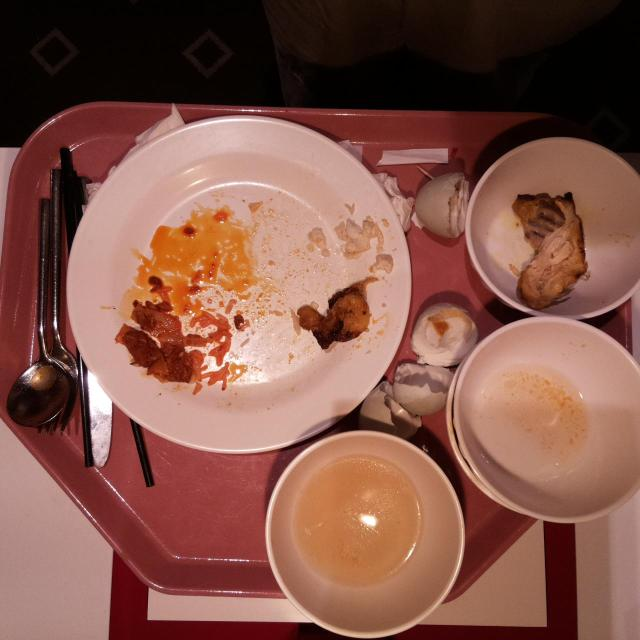Bone: (510, 192, 574, 234)
Egg-shell: (410, 302, 480, 369), (356, 380, 424, 444), (416, 171, 472, 241), (391, 361, 453, 417)
Meat: (520, 237, 580, 305)
Potato: (328, 288, 370, 344)
